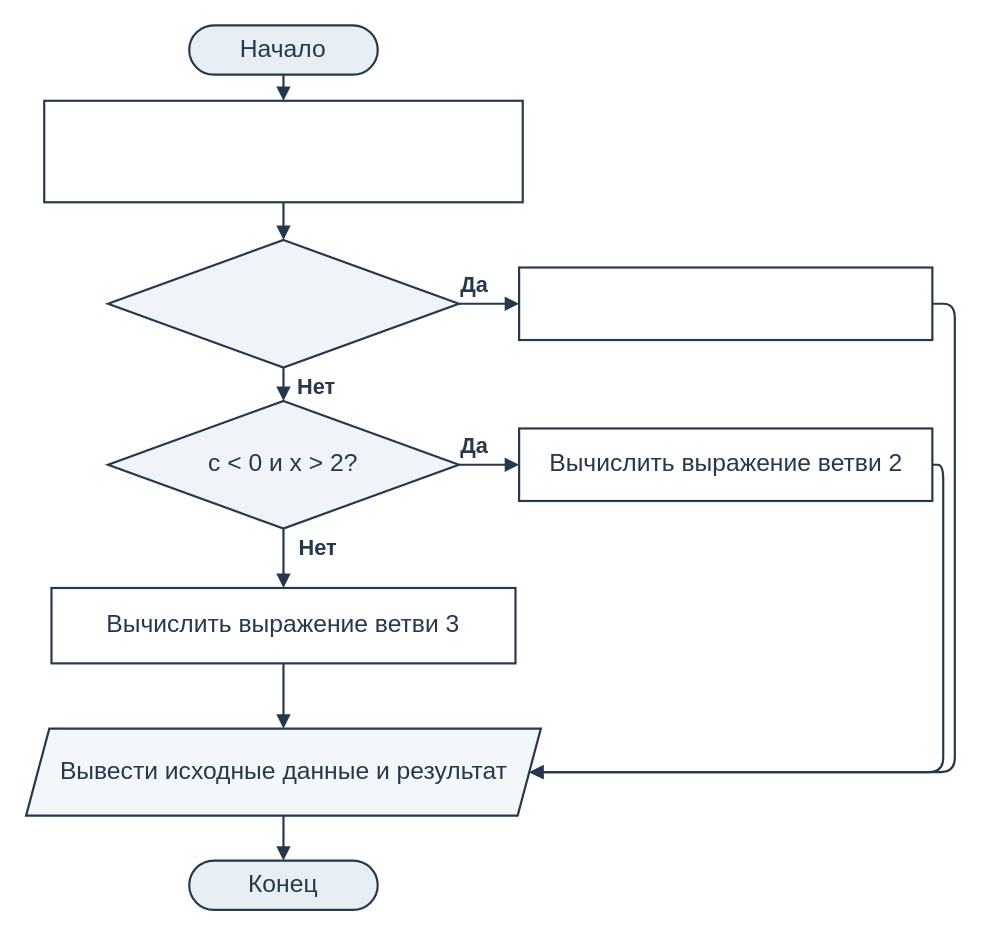
Some shapes in this 992 by 937 pixel diagram are drawn without their labels. Each missing label, with the centre of its shape:
c > 0 и x > 2?: (x=282, y=303)
Вычислить выражение ветви 1: (x=725, y=303)
Задать значения в программе x, b, c: (x=282, y=151)
